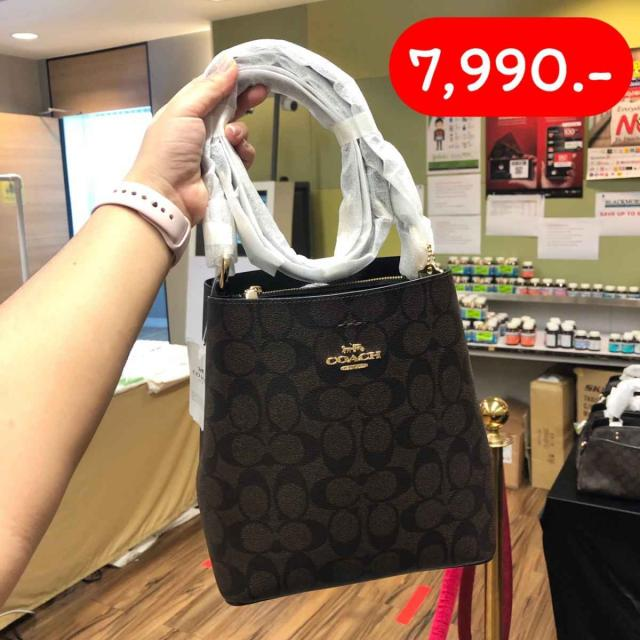Handbag: (197, 236, 501, 607)
